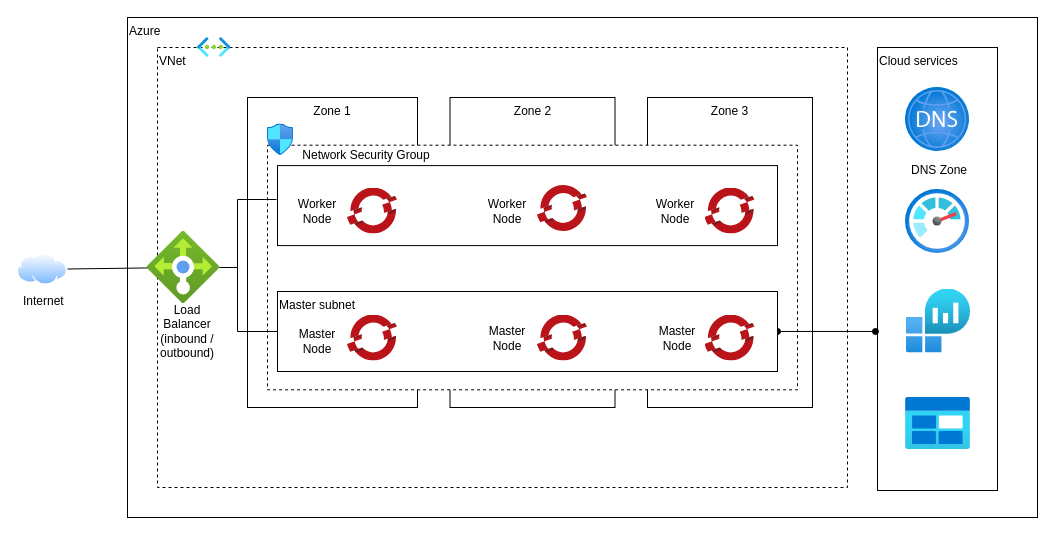
The diagram is 1055 pixels wide and 535 high, and some of its shapes have lost their labels. The shapes that lost their labels are listed below. From the top down, each one's box as (x1, y1, x2, y2) in pixels, then its label:
(276, 165, 778, 246): Worker subnet
(905, 189, 969, 253): Montoring
(906, 288, 970, 352): Log Analytics
(905, 397, 970, 449): Blob Storage
